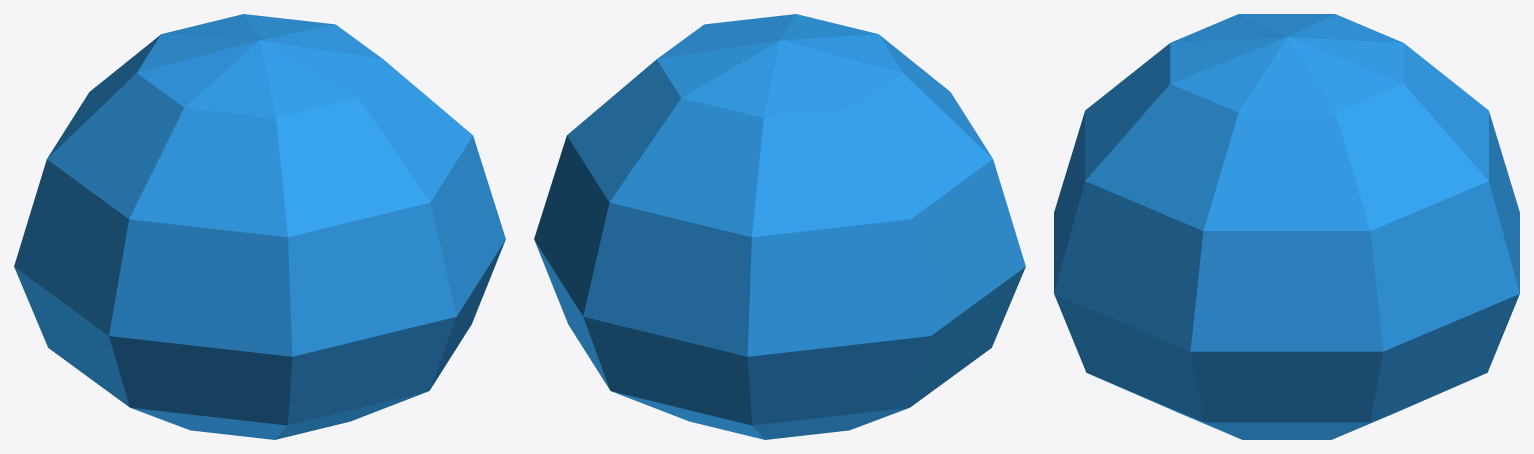
File: Slime.fbx
3 views of the same model, side by side, from view 1: azimuth 30°, elevation 25°; view 2: azimuth 150°, elevation 25°; view 3: azimuth 270°, elevation 25° (orthographic).
Visible parts, largest first — view 1: Slime; view 2: Slime; view 3: Slime.
Part boxes in pixels (x1,y1,x2,y2): Slime: (14, 14, 505, 439); Slime: (534, 14, 1025, 439); Slime: (1054, 14, 1519, 439).
Size of the model in its own units: 213 by 180 by 213.
